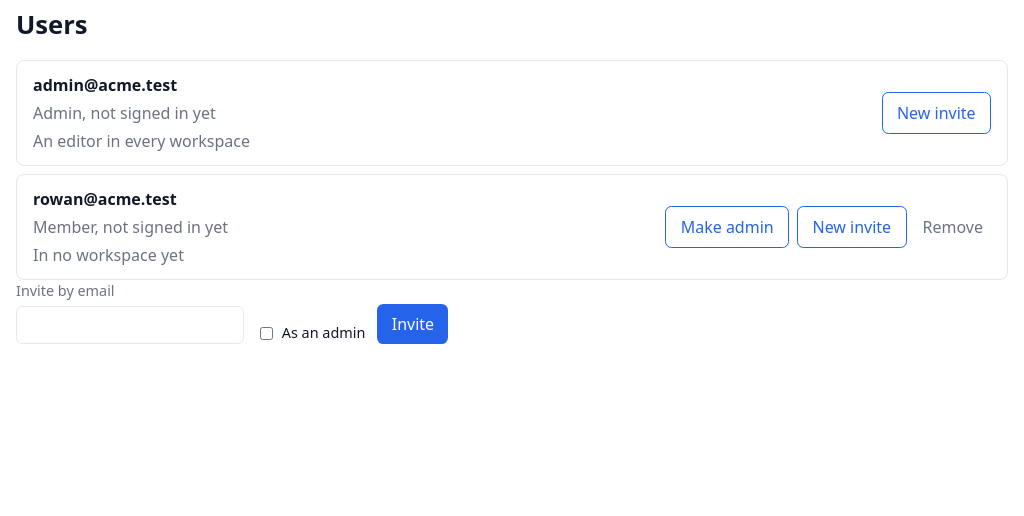
it: invites a user by mail
The image size is (1024, 516).
Expected: the text "rowan@acme.test" is shown, [33,188,177,210]
Type "new@acme.test" into the field labelled "Invite by email".
click(130, 325); type("new@acme.test")  # box [16,306,244,344]
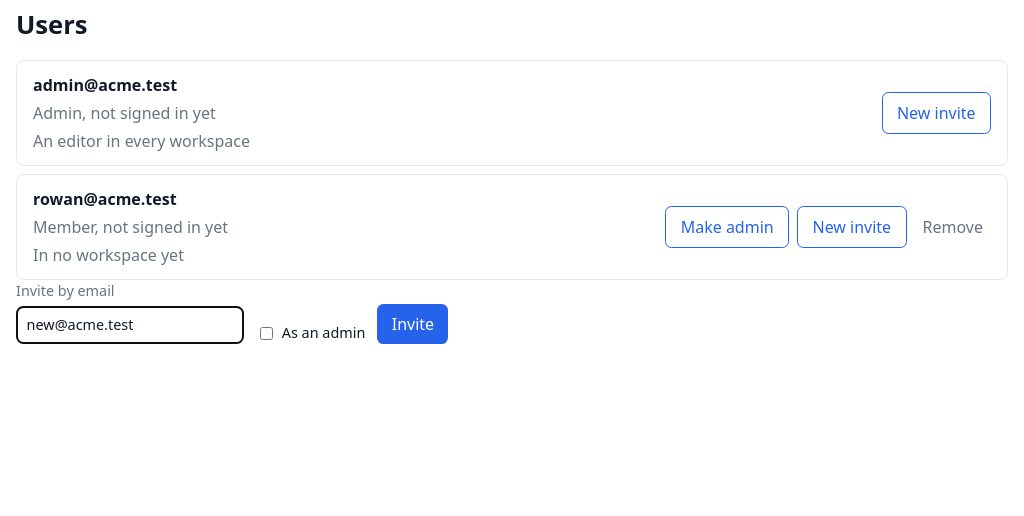
Click the checkbox labelled "As an admin".
click(267, 333)  # box [260,327,273,340]
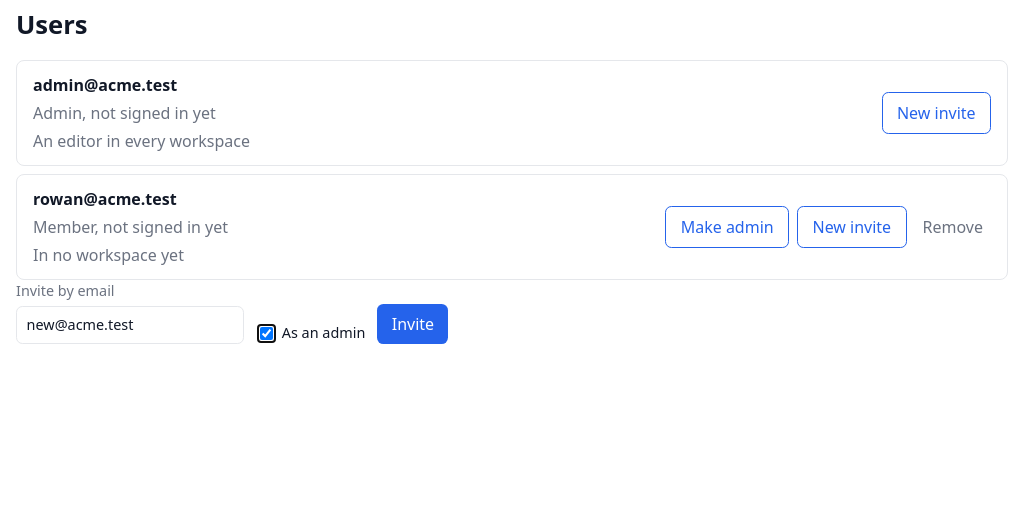
Click the button "Invite".
click(413, 324)  # box [377,304,448,344]
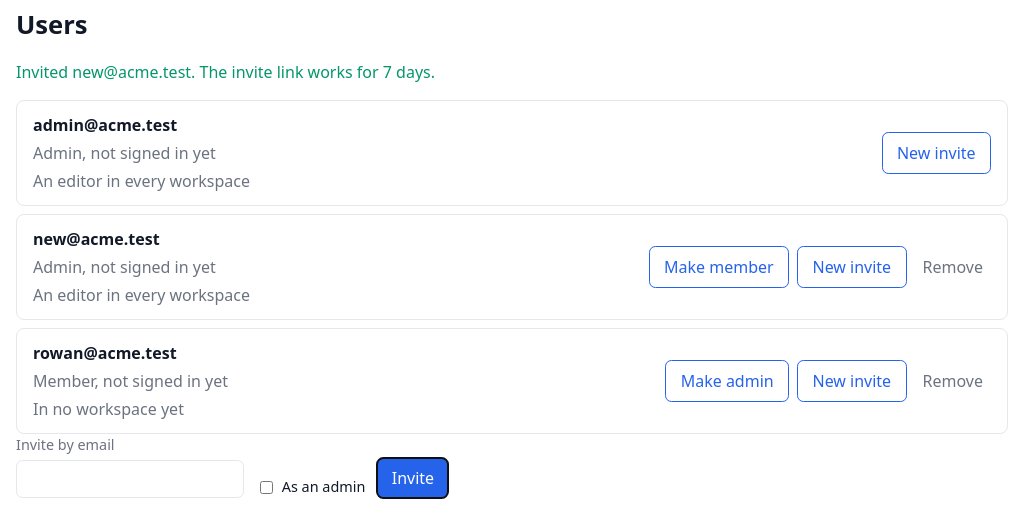
Expected: the text "Invited new@acme.test. The invite link works for 7 days." is shown, [16,61,435,83]
Expected: the text "new@acme.test" is shown, [33,228,160,250]
